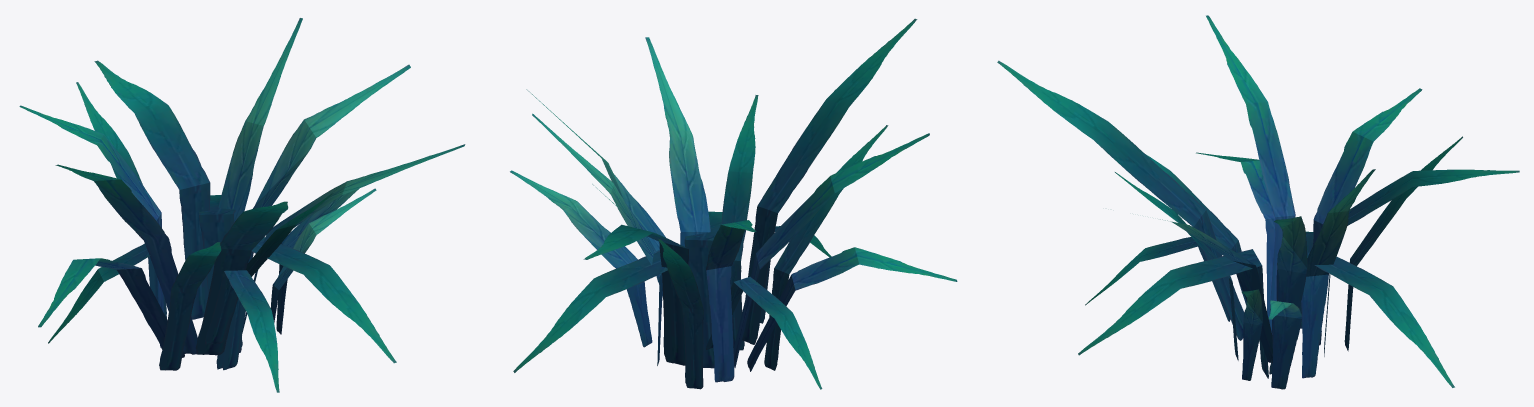
Rendered from map_111_shu_6.fbx.
3 renders of one model, left to right at view 1: azimuth 30°, elevation 25°; view 2: azimuth 150°, elevation 25°; view 3: azimuth 270°, elevation 25°, orthographic. The views are drawn at different scales.
Parts seen in each view (by area): view 1: map_111_shu_6; view 2: map_111_shu_6; view 3: map_111_shu_6.
Boxes of the visible parts, <box> form: map_111_shu_6: <box>19,18,465,392</box>; map_111_shu_6: <box>510,18,957,389</box>; map_111_shu_6: <box>997,15,1519,389</box>.
Bounding box in the file's own units: 0.6523 × 0.4051 × 0.6919.
